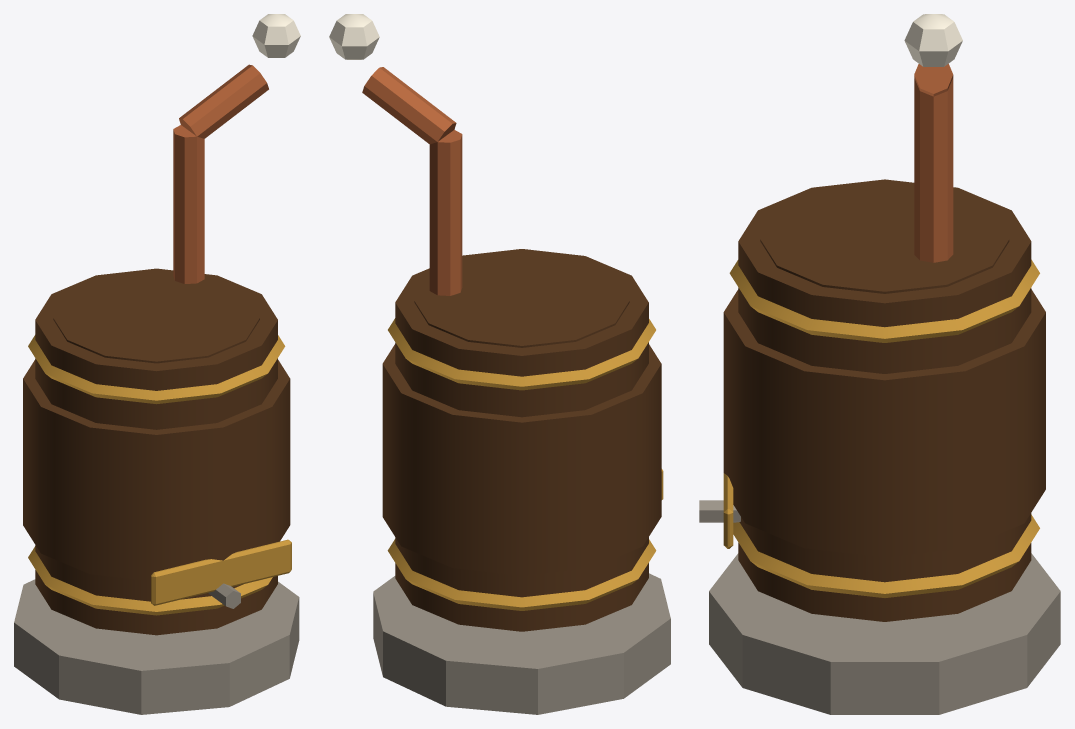
File: PR_Station_KaraBira_T2.fbx
3 views of the same model, side by side, from view 1: azimuth 30°, elevation 25°; view 2: azimuth 150°, elevation 25°; view 3: azimuth 270°, elevation 25° (orthographic). The views are drawn at different scales.
Parts seen in each view (by area): view 1: PR_Station_KaraBira_T2; view 2: PR_Station_KaraBira_T2; view 3: PR_Station_KaraBira_T2.
Part boxes in pixels (x1=…): PR_Station_KaraBira_T2: x1=14, y1=14, x2=300, y2=714; PR_Station_KaraBira_T2: x1=329, y1=14, x2=670, y2=714; PR_Station_KaraBira_T2: x1=699, y1=14, x2=1060, y2=714.
Size of the model in its own units: 0.7943 by 1.61 by 0.74.
1 material, 1 textured.
